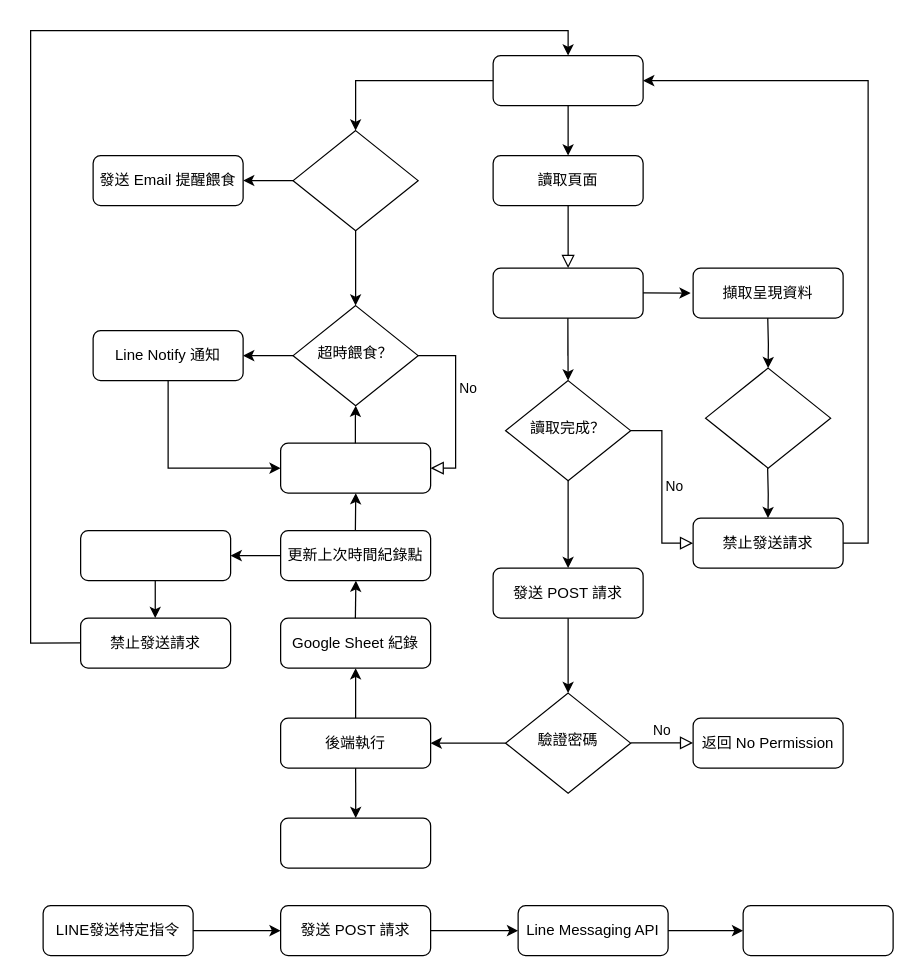
Image size: 915x978. Some labels were removed from this diagram. Here are the shapes that lost their labels. From the top down, the centre of each, then its label:
At [567,80]: "自動更新資料".
At [355,180]: "餵食時間".
At [567,292]: "發送 GET 請求".
At [767,417]: "完成/無需餵食".
At [355,467]: "每小時檢測時距".
At [155,555]: "返回執行完成".
At [355,842]: "發送 Line Notify".
At [817,930]: "回傳對應資料".
